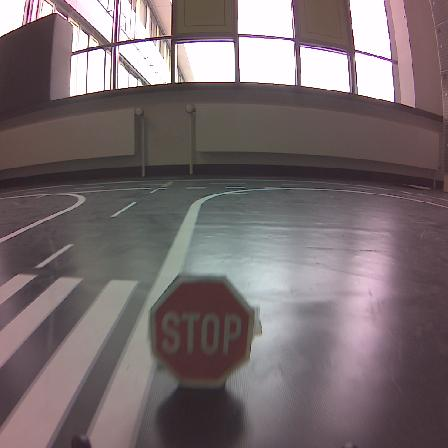STOP: (149, 276, 254, 387)
